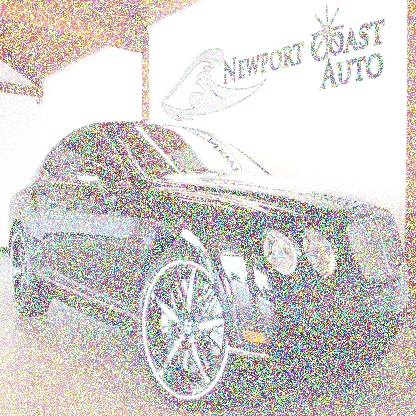Vehicle: (8, 122, 410, 414)
